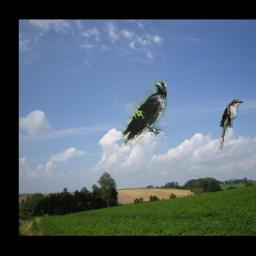Crow: (122, 81, 167, 148)
Cuckoo: (220, 99, 244, 150)
